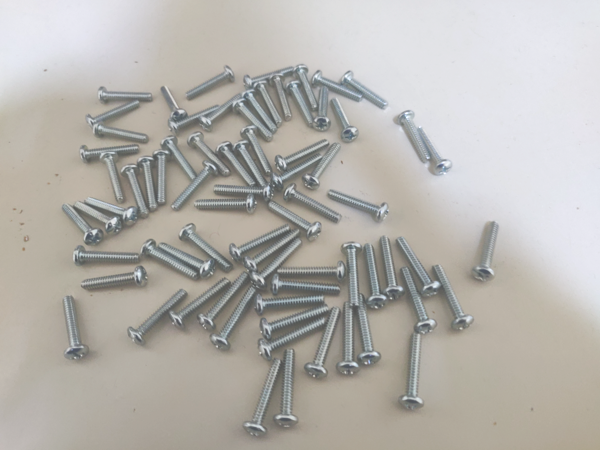longscrew: (129, 289, 184, 343), (213, 287, 256, 356), (261, 306, 331, 347), (259, 315, 328, 356), (245, 357, 279, 439), (199, 272, 247, 328), (171, 277, 228, 324), (252, 242, 308, 288), (395, 239, 440, 296), (306, 308, 343, 377), (175, 224, 230, 268), (243, 231, 299, 272), (436, 266, 471, 331), (140, 241, 198, 280), (285, 184, 342, 223), (331, 183, 388, 222), (404, 267, 436, 336), (273, 348, 299, 432), (228, 224, 290, 256), (403, 327, 424, 420), (271, 152, 321, 190), (174, 163, 215, 209), (62, 293, 87, 364), (472, 223, 501, 284), (158, 243, 219, 272), (231, 94, 271, 138), (343, 69, 389, 107), (270, 204, 321, 238), (185, 64, 236, 98), (271, 274, 343, 298), (303, 145, 343, 188), (188, 131, 226, 176), (312, 70, 367, 101), (276, 260, 347, 284), (79, 268, 150, 292), (75, 200, 125, 234), (239, 127, 277, 171), (234, 142, 272, 186), (216, 142, 254, 186), (275, 137, 327, 169), (253, 295, 325, 318), (161, 135, 197, 179), (358, 296, 380, 366), (85, 99, 137, 128), (380, 238, 403, 303), (339, 304, 360, 375), (123, 164, 151, 217), (59, 204, 98, 242), (200, 91, 240, 128), (84, 198, 136, 225), (167, 104, 219, 131), (419, 128, 450, 173), (243, 60, 295, 86), (246, 89, 277, 132), (68, 245, 150, 261), (212, 180, 275, 200), (344, 240, 363, 306), (405, 111, 428, 164), (194, 196, 258, 215), (365, 246, 384, 307), (92, 122, 149, 142), (334, 97, 359, 142), (94, 84, 153, 103), (138, 154, 156, 212), (259, 79, 281, 126), (80, 143, 139, 160), (102, 153, 120, 206), (155, 148, 171, 206), (161, 84, 185, 122), (294, 80, 313, 128), (297, 63, 316, 109), (275, 72, 290, 124), (315, 86, 331, 132)
